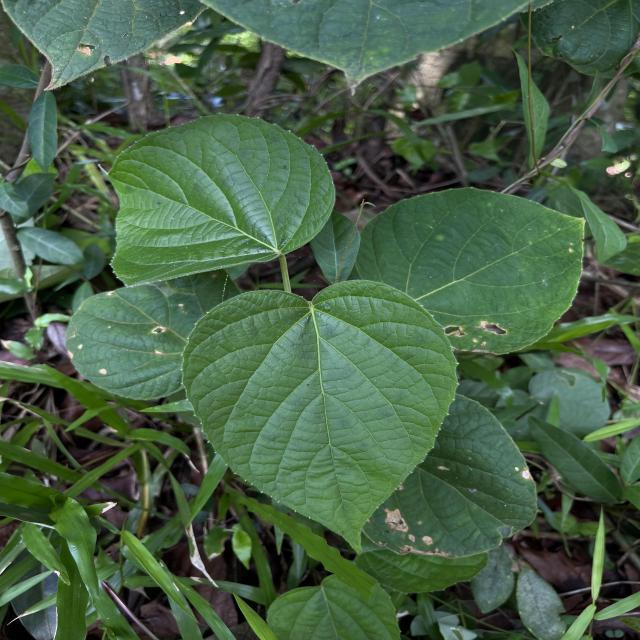Clerodendrum infortunatum: (179, 277, 462, 557), (95, 110, 339, 290), (350, 185, 589, 358)
